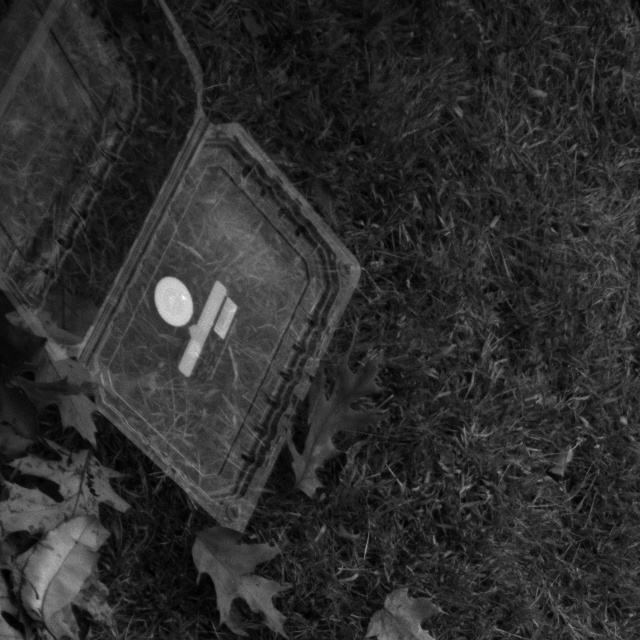container: (0, 0, 369, 546)
